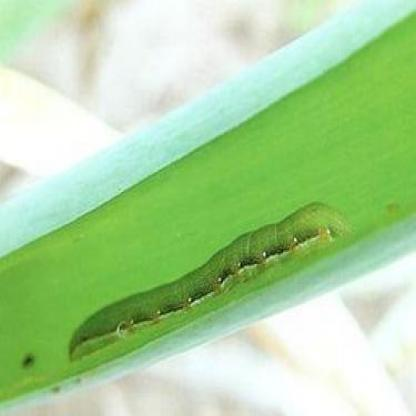armyworm: (59, 179, 364, 379)
